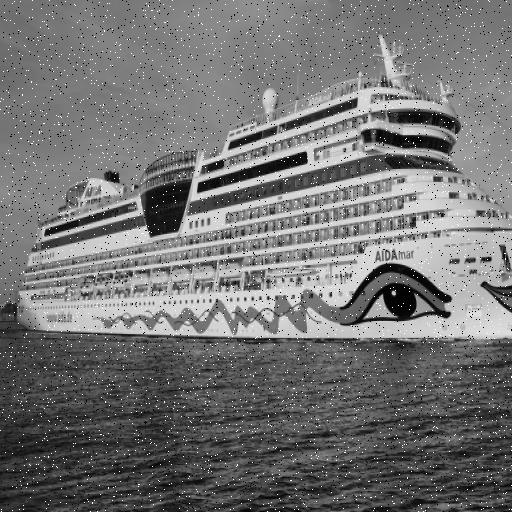cruises: (10, 25, 512, 348)
